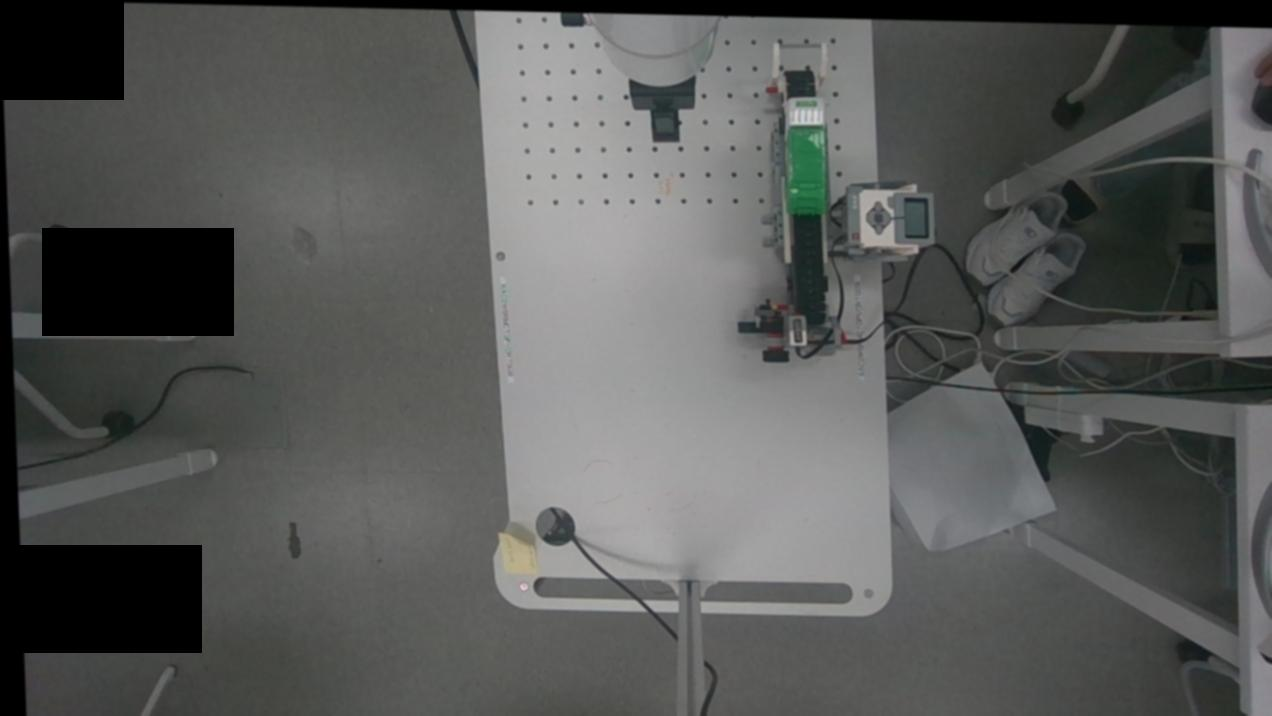truck: (776, 88, 834, 219)
